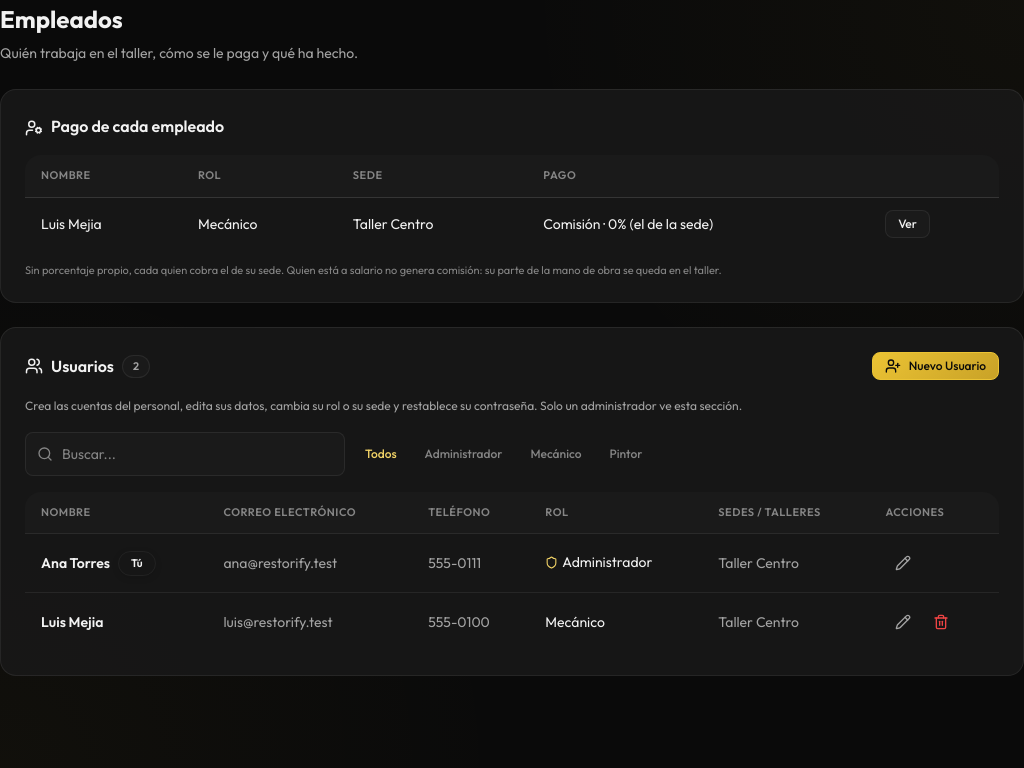
User administration dialog › opens an existing user with their current details filled in
The image size is (1024, 768).
Click the button named "Editar usuario" in the row of "luis@restorify.test": (902, 622) [886,605,920,639]
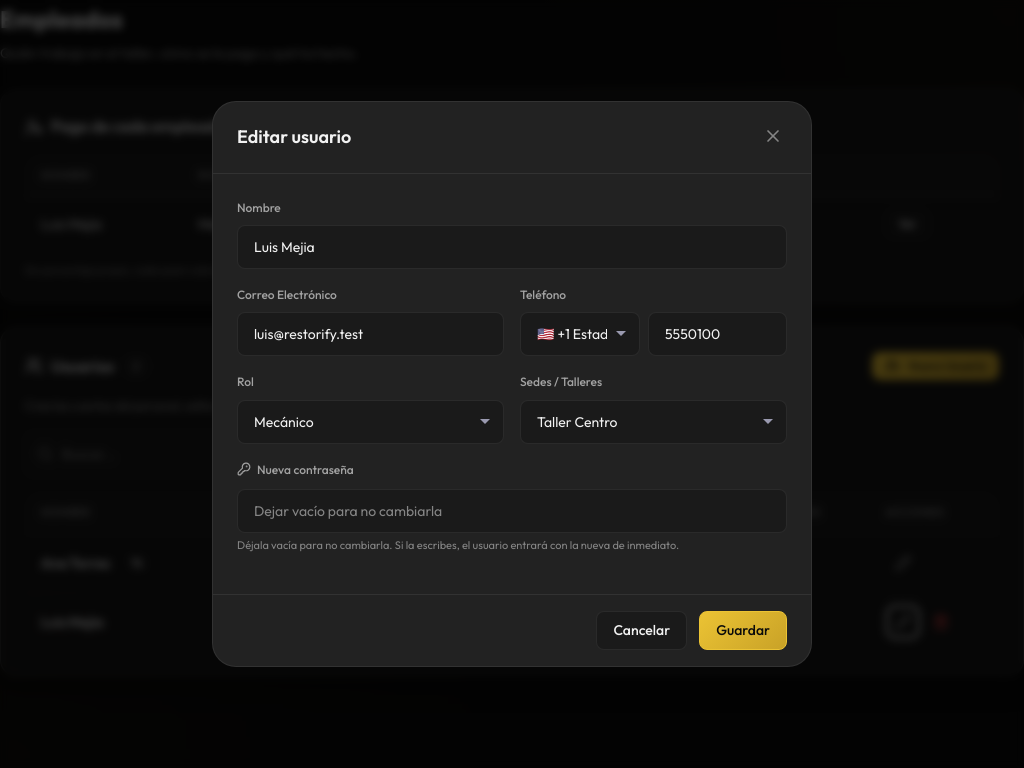
Result: the field labelled "Nombre" holds "Luis Mejia" at [237,225,787,269]
Result: the field labelled "Correo Electrónico" holds "luis@restorify.test" at [237,312,504,356]
